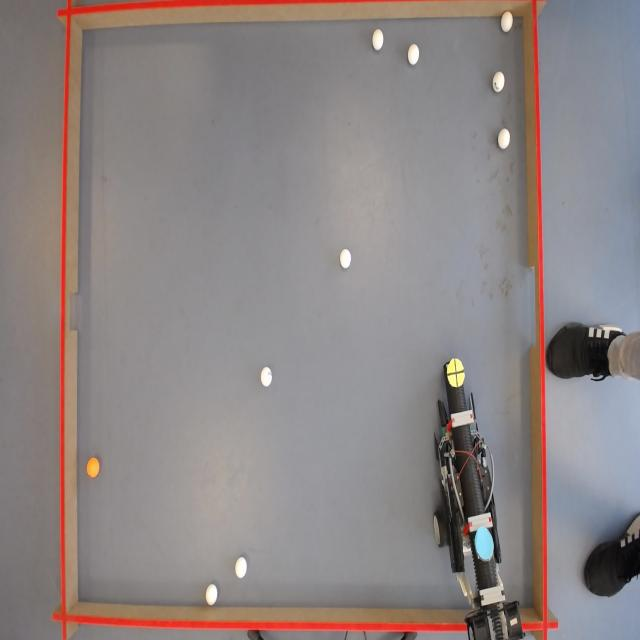orange: (86, 457, 102, 477)
robot: (434, 349, 520, 640)
robot-front: (447, 356, 465, 387)
robot-rear: (476, 526, 496, 562)
white: (206, 585, 220, 608), (408, 45, 422, 67), (497, 129, 511, 151), (500, 10, 513, 32), (373, 29, 386, 51), (235, 557, 248, 579), (493, 71, 506, 93), (340, 248, 352, 269), (262, 365, 274, 386)
